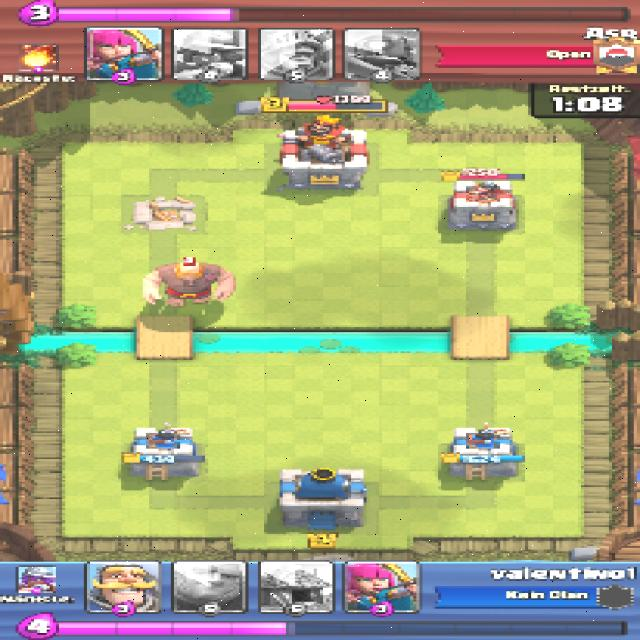Enemy-Giant: (141, 261, 236, 306)
